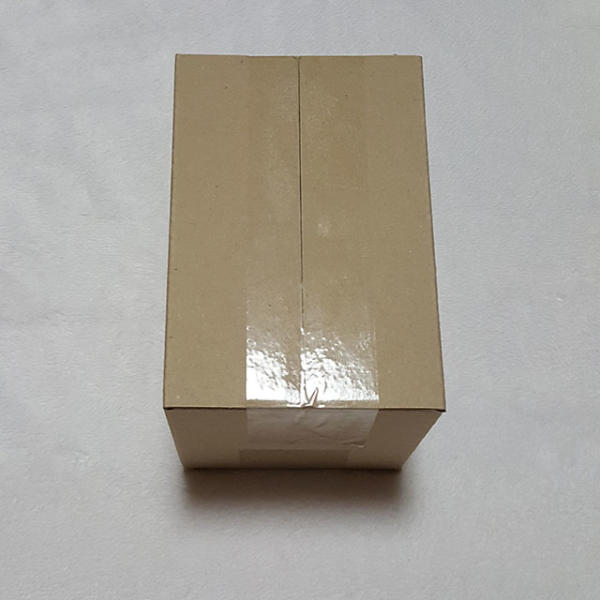undamaged: (160, 49, 453, 477)
